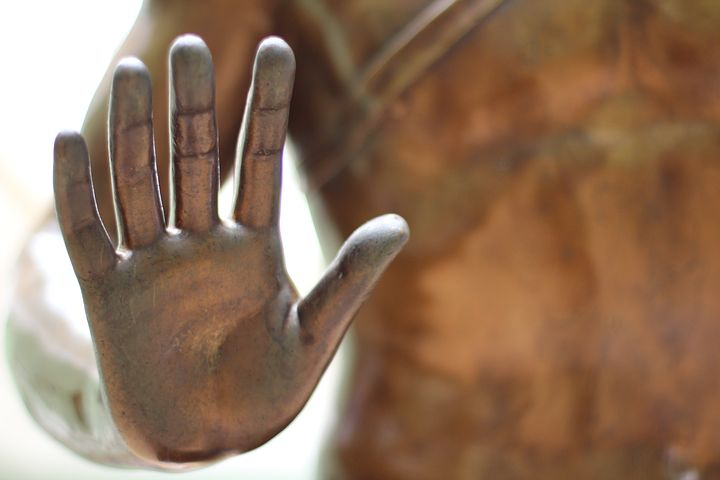palmhand: (54, 30, 320, 464)
